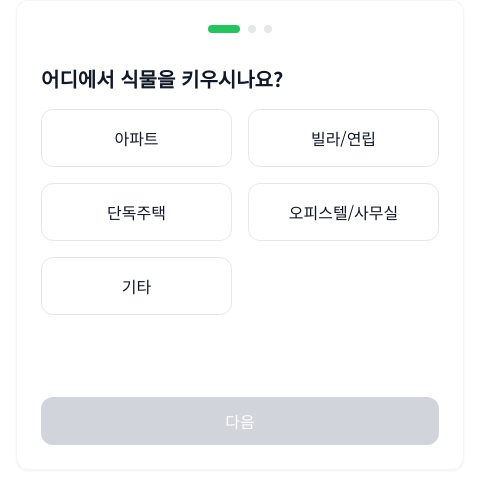
Test: SetupForm › should enable "Next" button when a residence type is selected
Click the button "아파트": (136, 138) [41, 109, 232, 167]
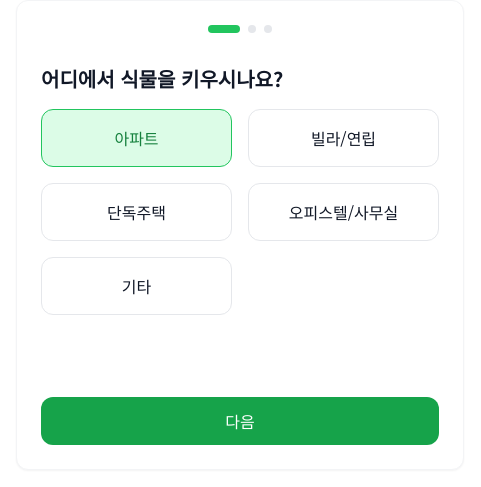
Expected: the button "다음" is enabled, [41, 397, 439, 445]
